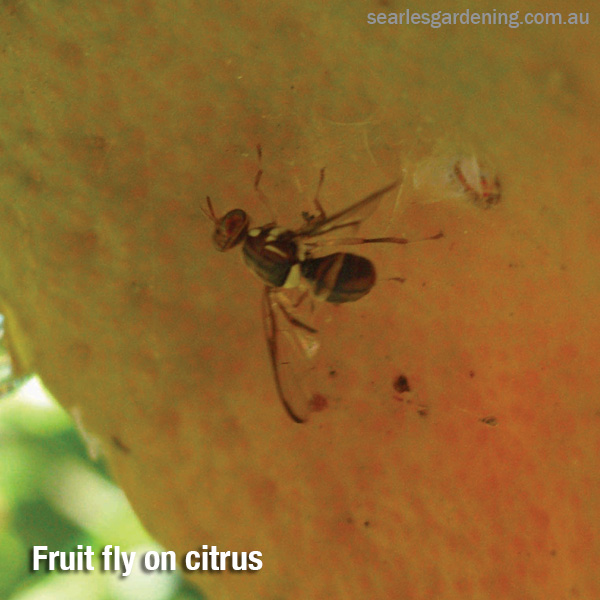Fruit fly: (175, 149, 417, 468)
